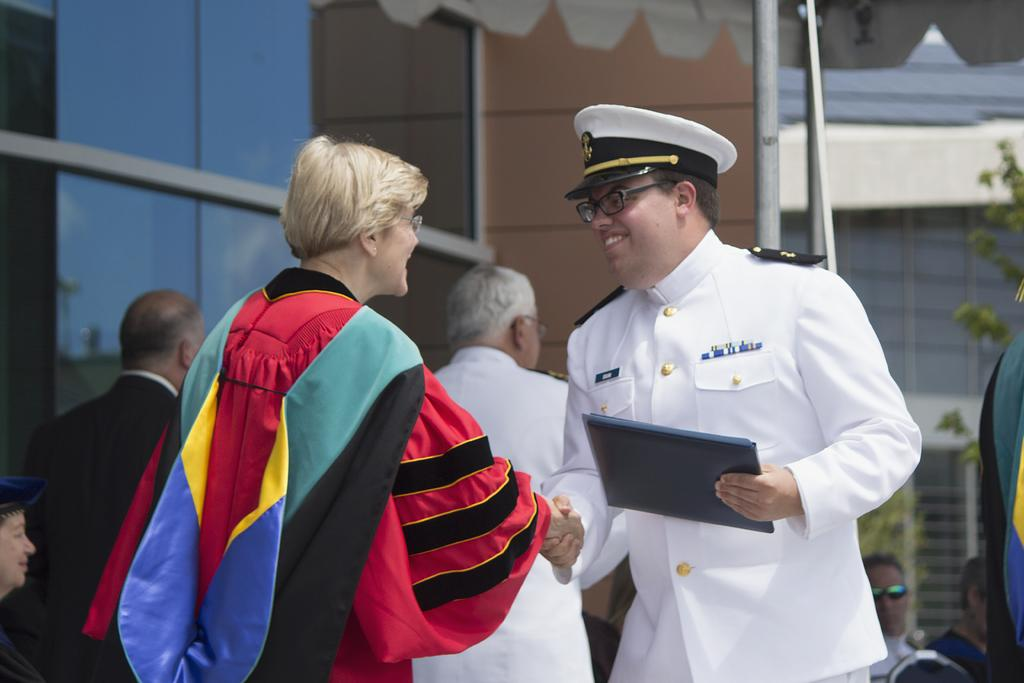Hat: (561, 102, 736, 205)
